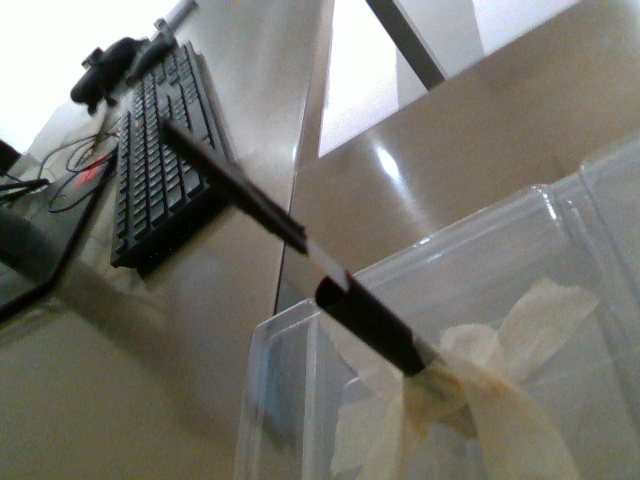test_strip: (155, 114, 348, 291)
